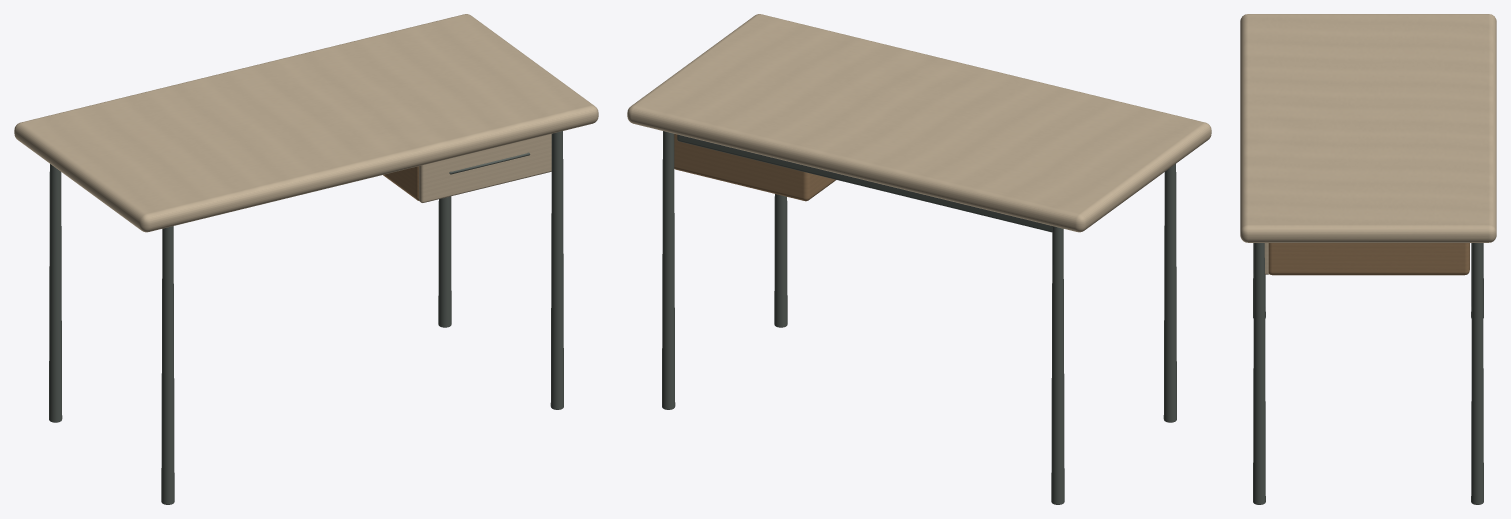
3 views of the same model, side by side, from view 1: azimuth 30°, elevation 25°; view 2: azimuth 150°, elevation 25°; view 3: azimuth 270°, elevation 25° (orthographic). The views are drawn at different scales.
Parts seen in each view (by area): view 1: tabletop, drawer_front, leg_-1_1, leg_1_1, leg_-1_-1, leg_1_-1, drawer_body; view 2: tabletop, drawer_body, leg_-1_-1, leg_1_-1, leg_-1_1, rear_apron, leg_1_1; view 3: tabletop, drawer_body, leg_1_-1, leg_1_1.
Boxes of the visible parts, box(x1,y1,x2,y2) form: tabletop: box(14, 14, 598, 232); drawer_front: box(419, 134, 551, 202); leg_-1_1: box(161, 226, 174, 504); leg_1_1: box(550, 131, 563, 409); leg_-1_-1: box(49, 164, 62, 422); leg_1_-1: box(438, 196, 451, 327); drawer_body: box(383, 166, 418, 200); tabletop: box(627, 14, 1211, 232); drawer_body: box(674, 134, 835, 201); leg_-1_-1: box(1051, 226, 1064, 504); leg_1_-1: box(662, 131, 675, 409); leg_-1_1: box(1163, 164, 1176, 422); rear_apron: box(677, 134, 1052, 232); leg_1_1: box(774, 194, 787, 327); tabletop: box(1240, 14, 1496, 242); drawer_body: box(1268, 243, 1469, 275); leg_1_-1: box(1471, 243, 1483, 504); leg_1_1: box(1253, 243, 1265, 504).
Size of the model in its own units: 1.2 by 0.75 by 0.6.
3 materials, 2 textured.
